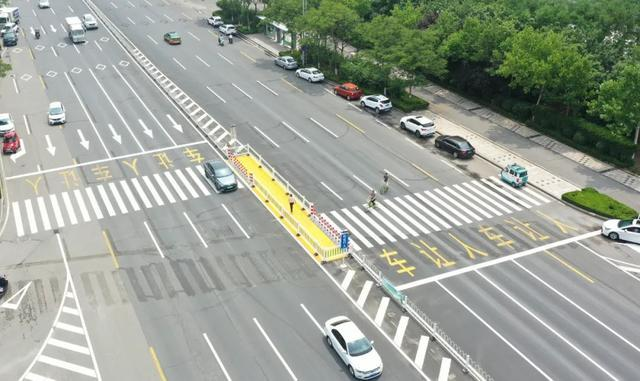car: (321, 314, 386, 378), (416, 125, 469, 155), (432, 134, 477, 162), (600, 216, 640, 247), (203, 160, 237, 193), (497, 162, 529, 189), (402, 116, 438, 139), (0, 112, 19, 153), (331, 82, 365, 101), (360, 95, 392, 114), (296, 67, 325, 83), (50, 100, 66, 125), (274, 56, 298, 70), (164, 32, 183, 46), (85, 14, 101, 29), (3, 31, 18, 45), (1, 23, 18, 32), (38, 0, 52, 9)
person: (370, 188, 378, 208), (382, 173, 390, 189)
truck: (63, 17, 85, 46), (0, 7, 20, 25)
